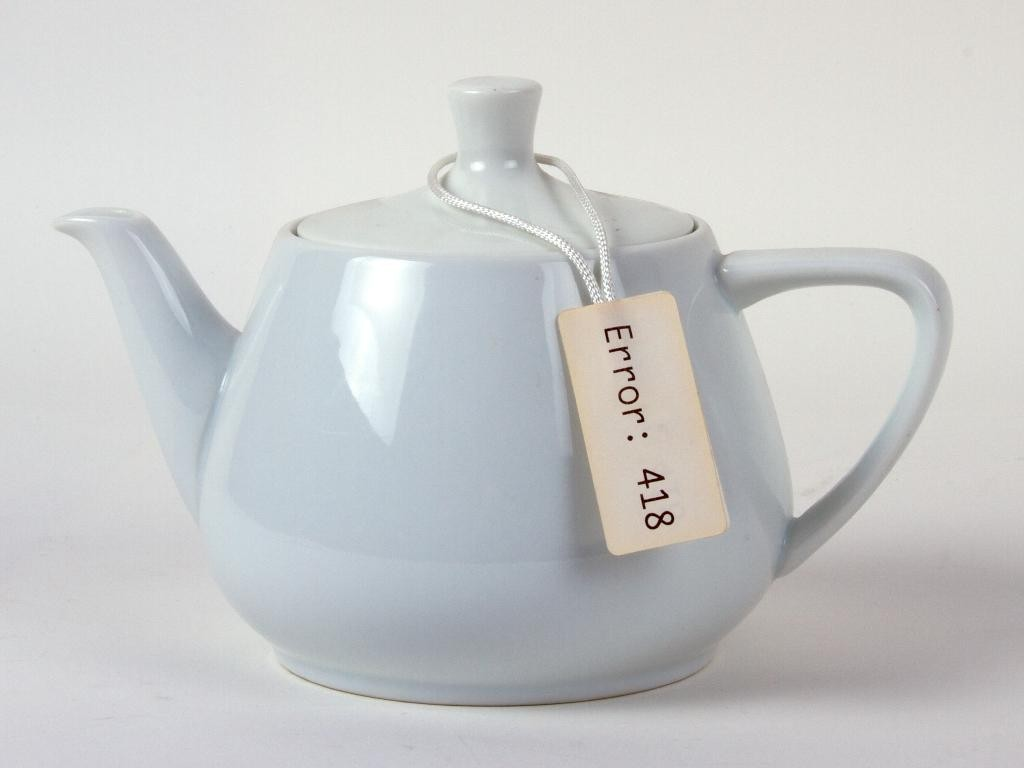teapot: (50, 76, 957, 706)
